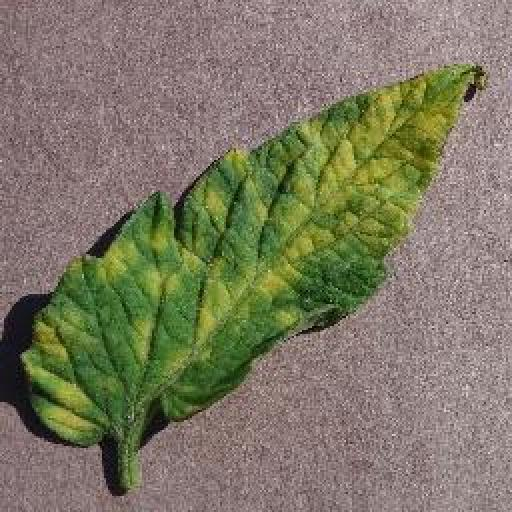disease_tomato: (23, 65, 486, 447)
